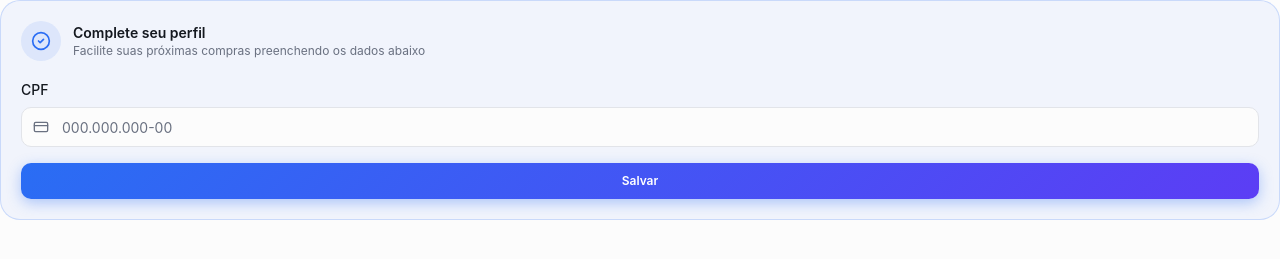
Scenario: ProfileCompletionCard – validação inline › valida apenas os campos exibidos
The image size is (1280, 259).
What coordinates should you click on to do the following:
click the button "Salvar"
I would click on:
 (640, 181)
Its box is [21,163,1259,199].
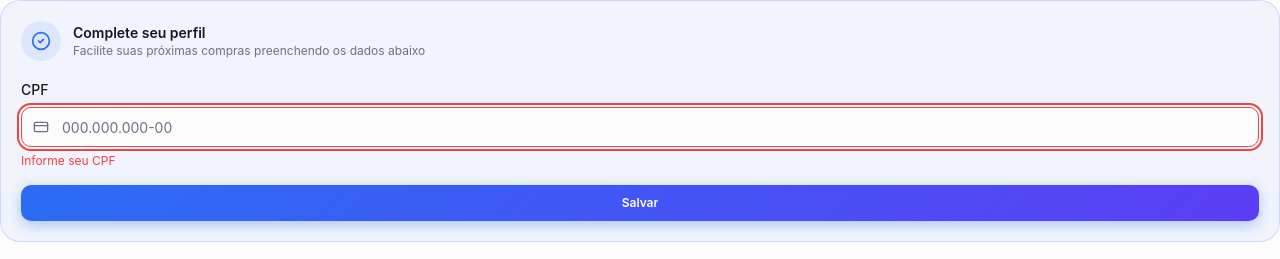
Expected: the text "Informe seu CPF" is shown, [21,153,116,168]
